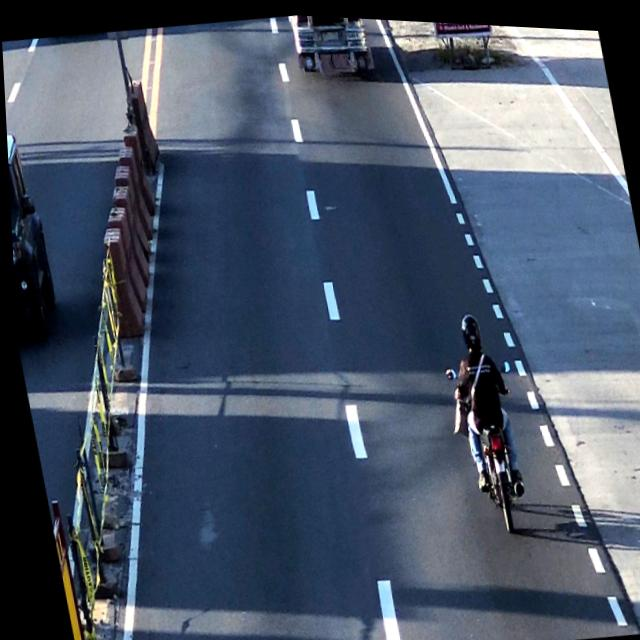Jeep: (287, 12, 376, 75)
Motorcycle: (435, 308, 530, 537)
